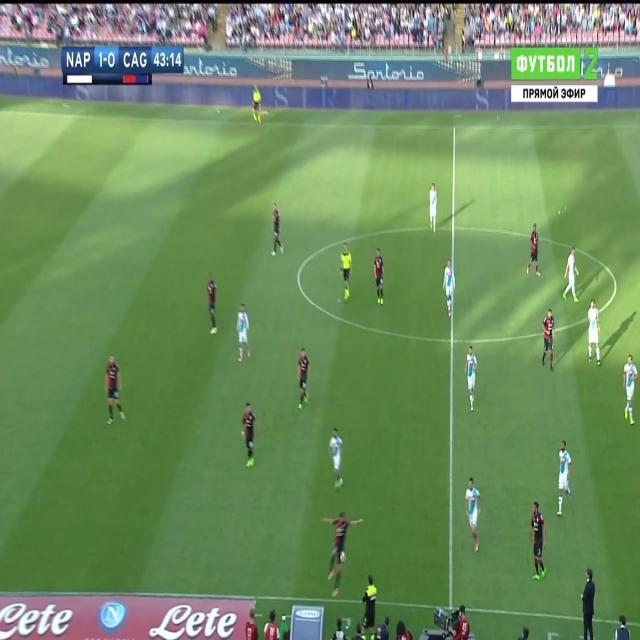Ball: (338, 548, 346, 565)
Player: (322, 510, 363, 598), (462, 475, 485, 557), (528, 501, 549, 582), (105, 352, 125, 428), (556, 439, 574, 518), (326, 426, 347, 491), (622, 353, 639, 428), (203, 273, 222, 338), (586, 298, 604, 366), (562, 242, 581, 306), (296, 342, 313, 413), (234, 299, 252, 366), (240, 402, 258, 468), (463, 344, 479, 414), (525, 220, 543, 280), (442, 255, 458, 321), (372, 245, 388, 309), (542, 306, 556, 375), (269, 200, 284, 258), (428, 182, 438, 236)
Referee: (338, 240, 353, 302), (250, 81, 264, 126)
